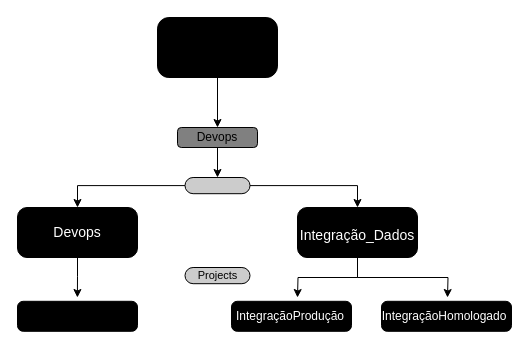
This 529x352 diagram has some shape labels left out. The shapes that lost their labels are listed below. From the top down, each one's centre as x and y in pixels, then its label:
At point 217,47: "Finops2rp".
At point 217,185: "Folders".
At point 77,315: "Terraform".
